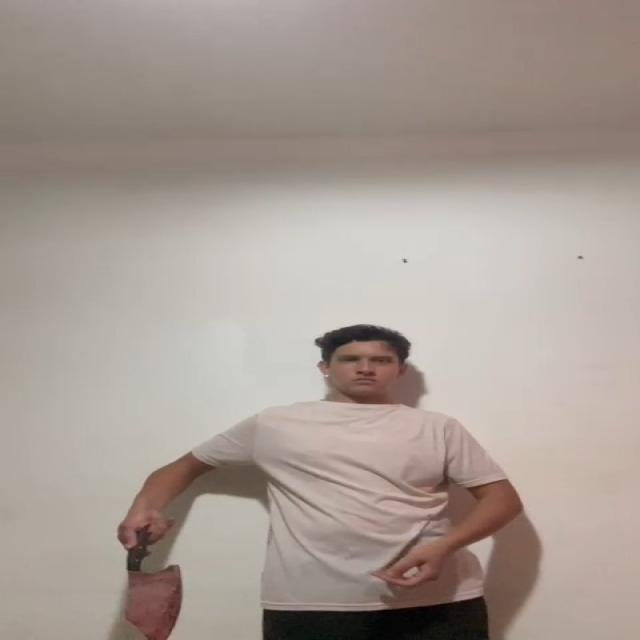knife: (120, 563, 189, 640)
